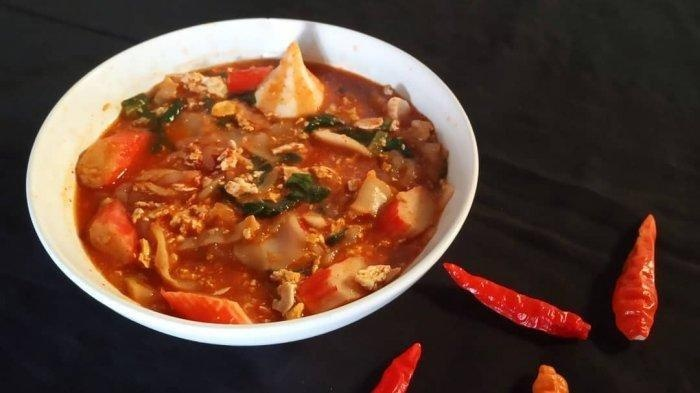seblak: (75, 38, 453, 325)
